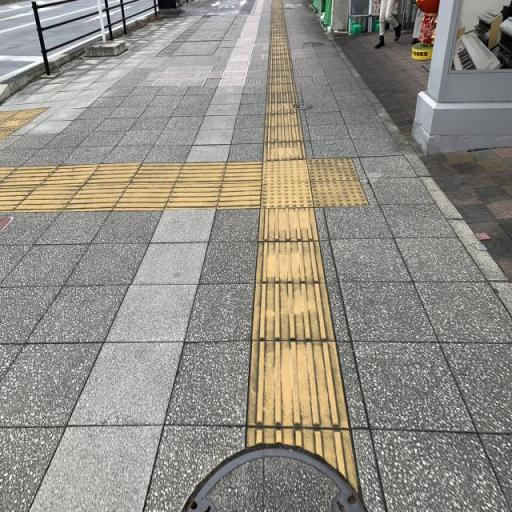line: (13, 183, 85, 210), (63, 182, 129, 211), (113, 182, 176, 209), (163, 182, 221, 208), (0, 165, 60, 188), (217, 180, 262, 208), (42, 163, 101, 184), (86, 163, 140, 183), (176, 162, 227, 183), (131, 162, 184, 182), (223, 161, 263, 182)
